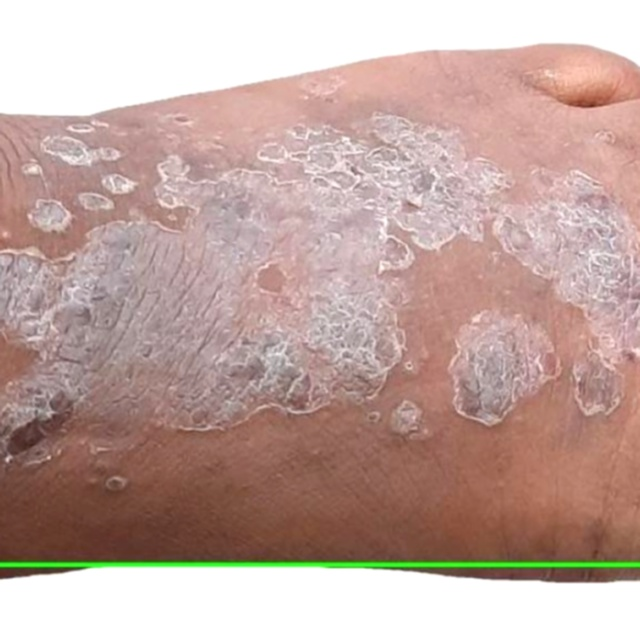Contact Dermatitis: (0, 564, 639, 639)
